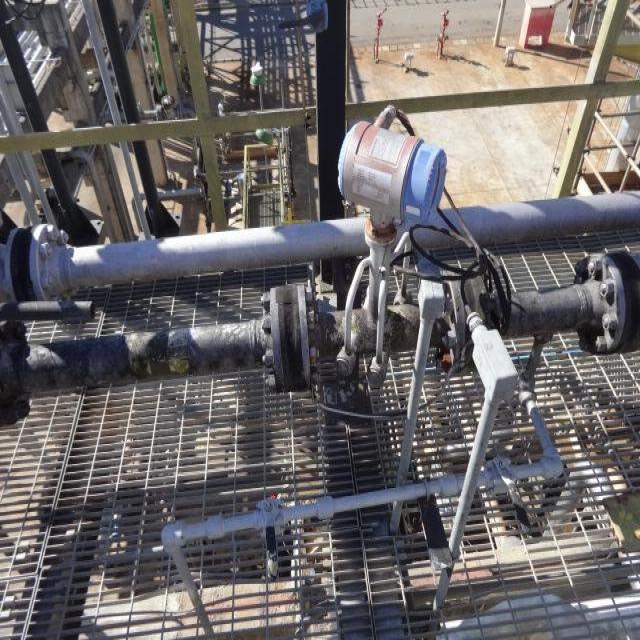gas: (159, 389, 567, 640), (23, 272, 632, 391), (7, 190, 640, 303)
